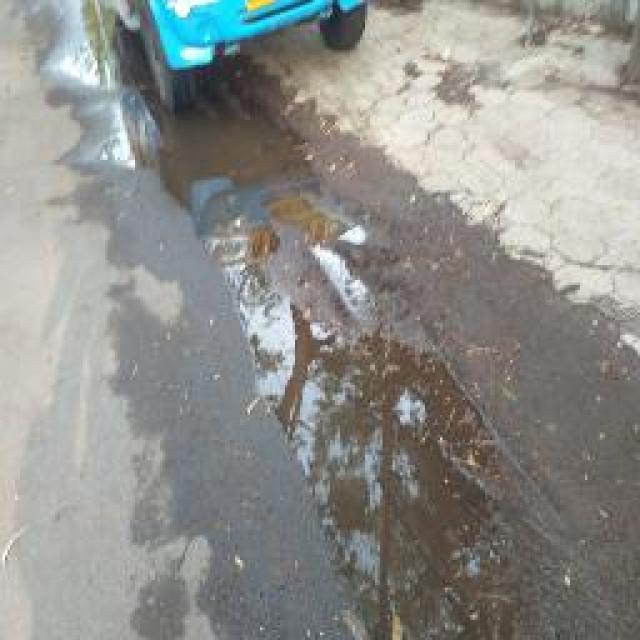puddle: (169, 103, 500, 640)
